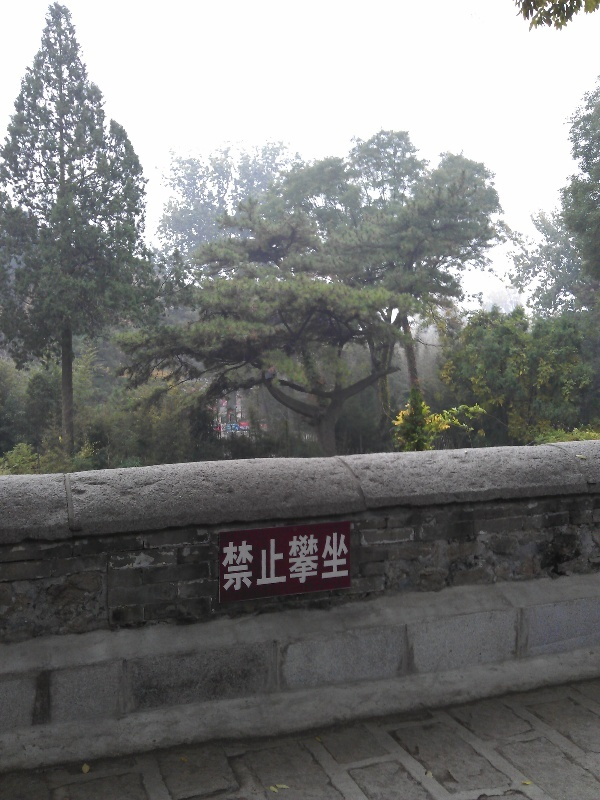text: (225, 532, 240, 592), (241, 532, 256, 592), (257, 532, 272, 592), (273, 532, 288, 592), (289, 532, 304, 592), (305, 532, 320, 592), (321, 532, 336, 592), (337, 532, 350, 592), (222, 532, 224, 592)
